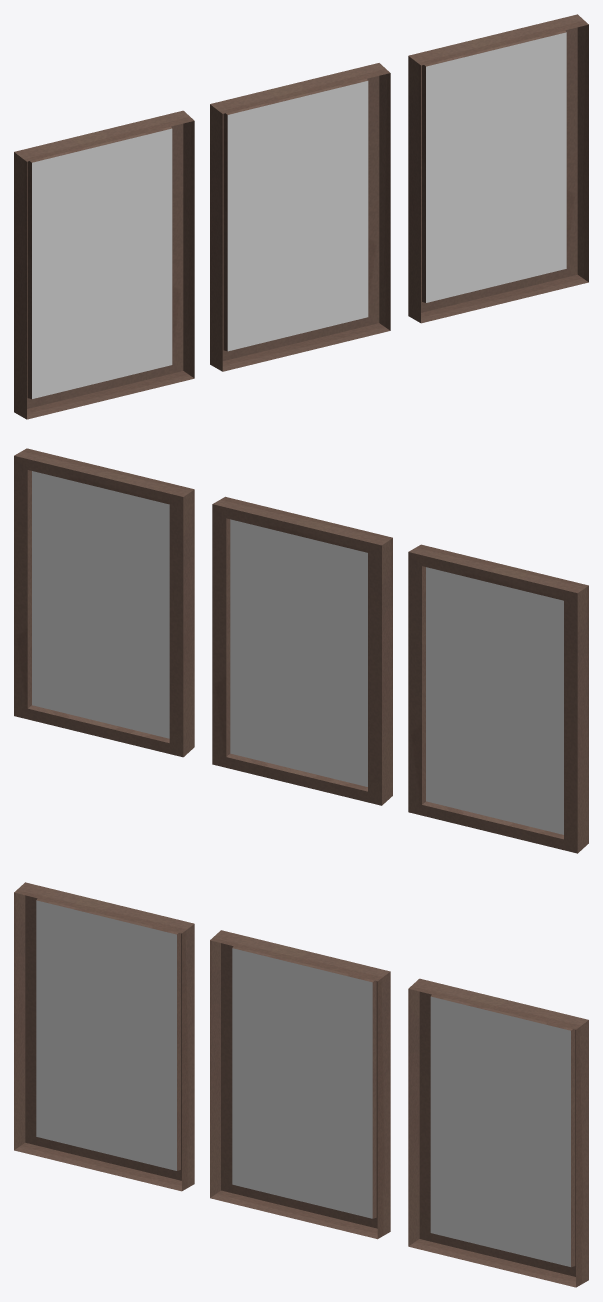
File: Paintings.fbx
3 renders of one model, top to bottom at view 1: azimuth 30°, elevation 25°; view 2: azimuth 150°, elevation 25°; view 3: azimuth 330°, elevation 25°, orthographic.
Visible parts, largest first — view 1: Painting2, Painting3, Painting1; view 2: Painting1, Painting2, Painting3; view 3: Painting1, Painting2, Painting3.
Part boxes in pixels (x1,y1,x2,y2): Painting2: [408, 14, 588, 323]; Painting3: [14, 110, 194, 419]; Painting1: [210, 63, 390, 371]; Painting1: [212, 496, 392, 805]; Painting2: [14, 448, 194, 757]; Painting3: [408, 544, 588, 853]; Painting1: [210, 930, 390, 1239]; Painting2: [408, 978, 588, 1287]; Painting3: [14, 882, 194, 1191].
Size of the model in its own units: 1185 by 523 by 43.9.
